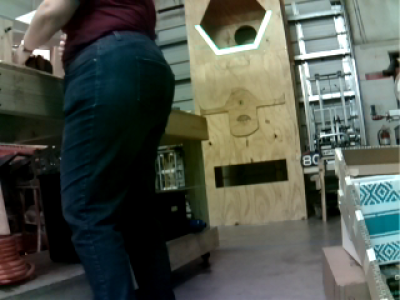target: (194, 10, 274, 55)
